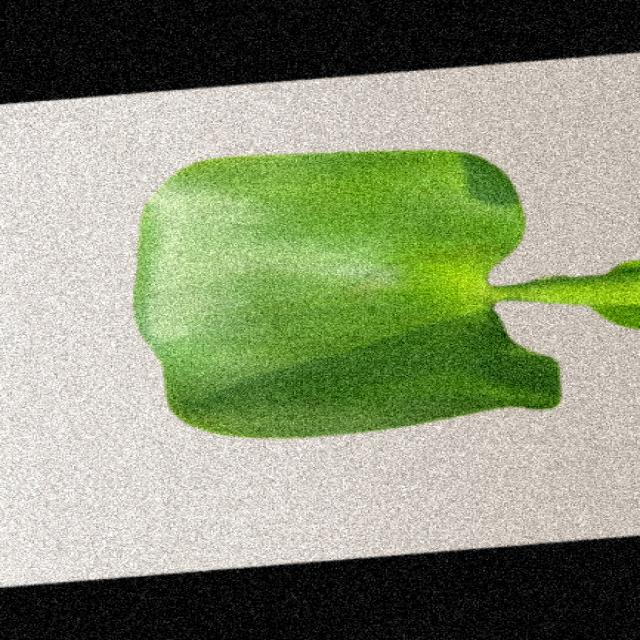daun sehat: (135, 151, 638, 438)
